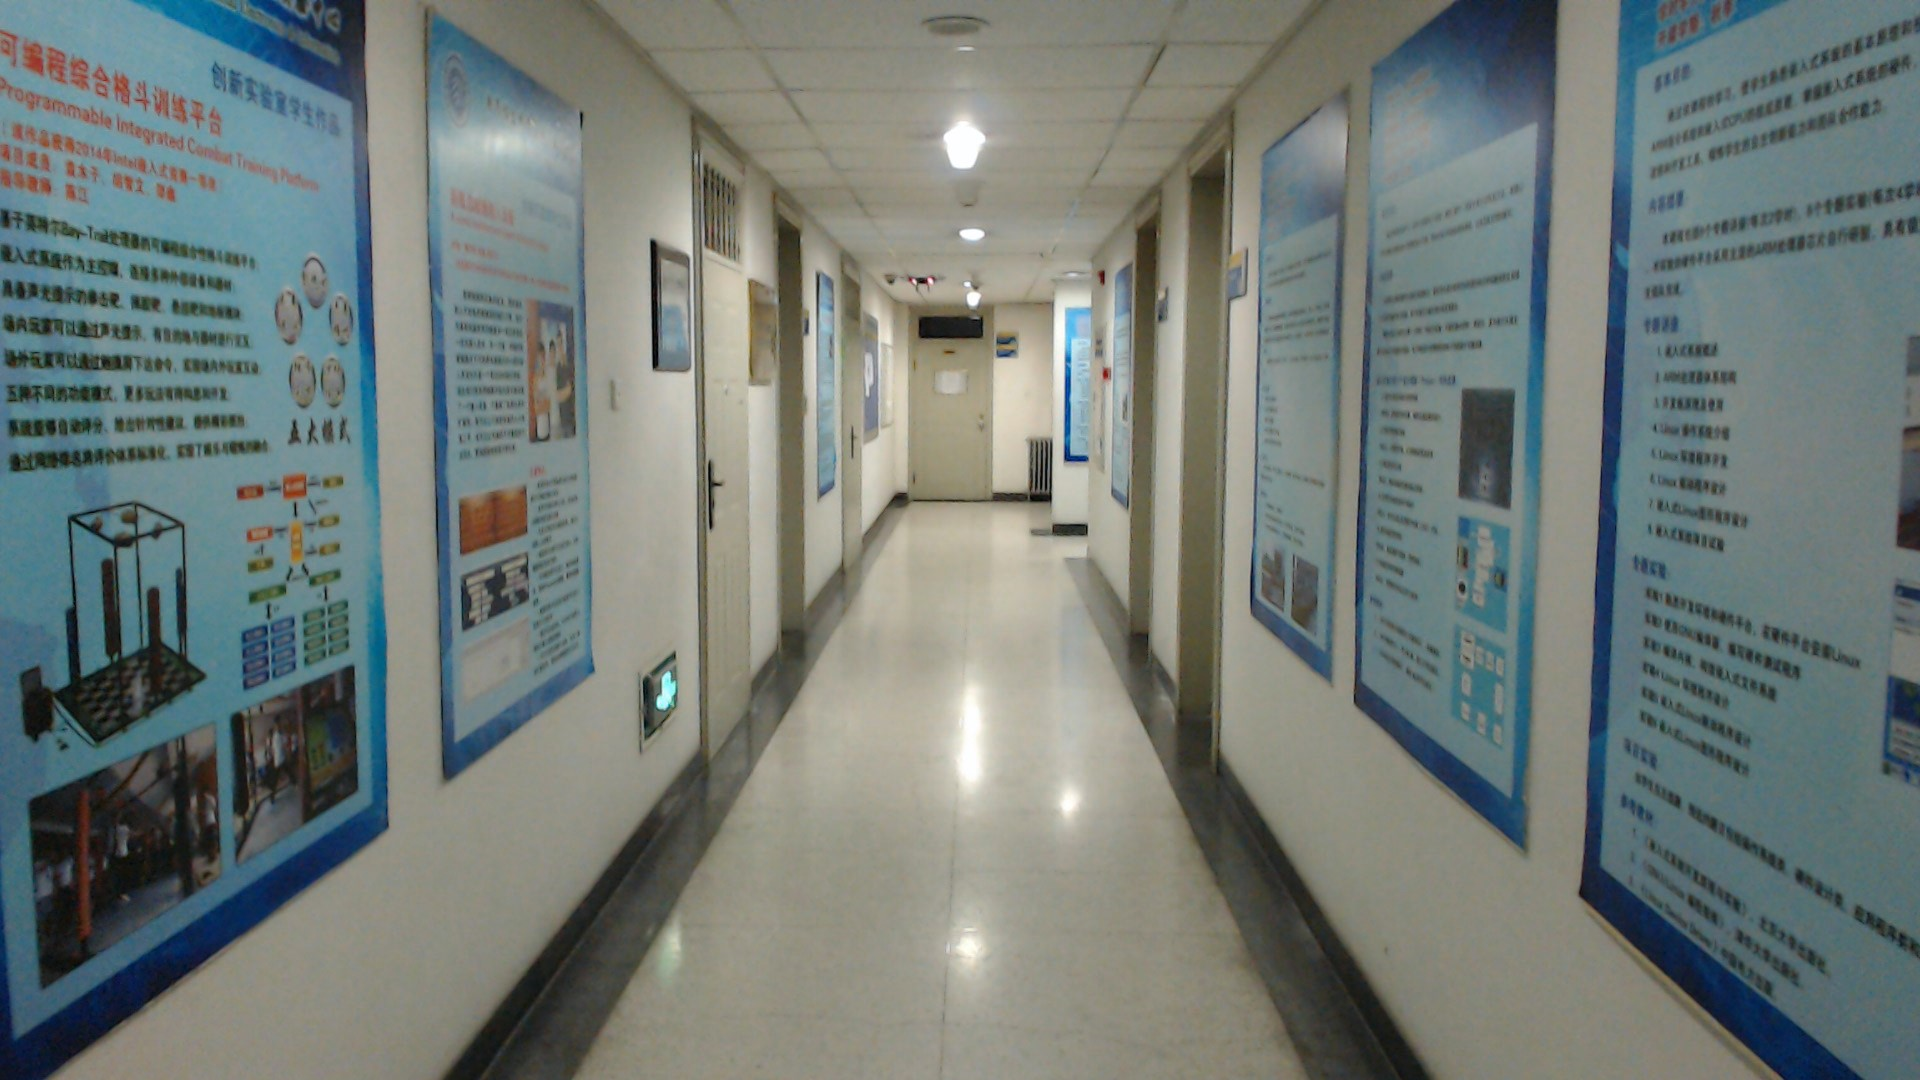test_drone: (898, 266, 951, 298)
